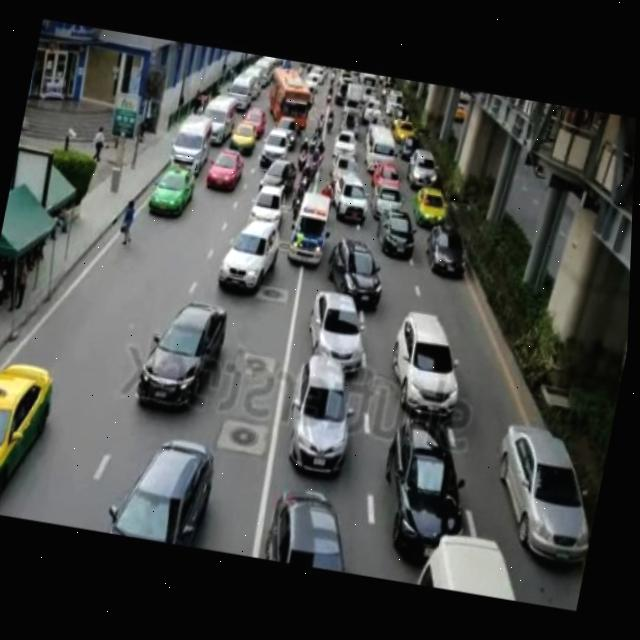emergency: (286, 202, 336, 266)
